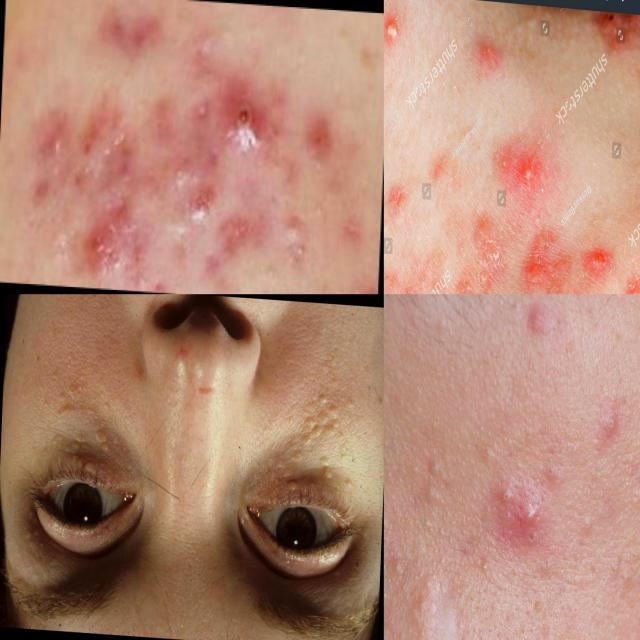Pimples: (101, 0, 173, 73), (218, 68, 278, 151), (499, 477, 556, 561), (72, 210, 130, 270), (48, 348, 90, 414), (410, 564, 447, 626), (516, 294, 556, 346), (7, 504, 44, 560), (576, 240, 616, 291), (31, 119, 68, 171), (590, 5, 632, 46), (90, 426, 128, 458), (192, 183, 220, 226), (274, 433, 306, 469), (306, 391, 340, 423), (307, 421, 348, 446), (49, 431, 83, 456), (516, 152, 534, 189), (384, 12, 406, 40), (479, 34, 496, 70), (315, 456, 338, 482), (74, 457, 100, 480), (283, 474, 305, 496), (624, 268, 640, 294), (342, 476, 354, 490)
